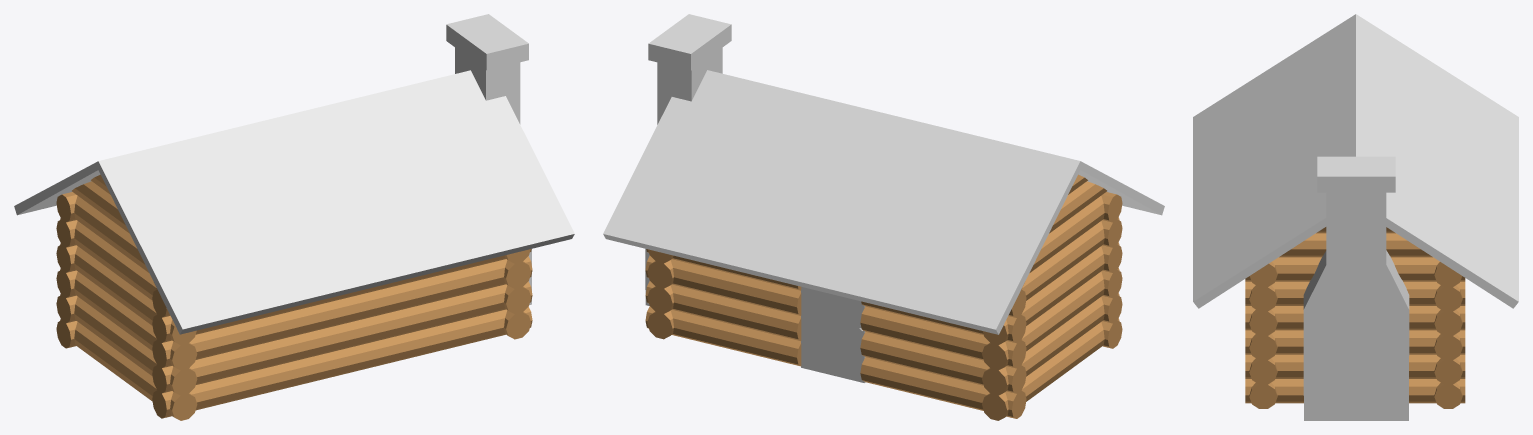
File: Cabin.fbx
3 views of the same model, side by side, from view 1: azimuth 30°, elevation 25°; view 2: azimuth 150°, elevation 25°; view 3: azimuth 270°, elevation 25° (orthographic). The views are drawn at different scales.
Parts seen in each view (by area): view 1: rOOF, WallTop.001, Walls, cHIMNEY, Walls.001, WallDoor; view 2: rOOF, WallDoor, Walls, cHIMNEY, Door.001, Walls.001, WallTop.001; view 3: rOOF, cHIMNEY, Walls, Walls.001, WallTop.001, WallDoor, WallTop.002, WallTop.
Part boxes in pixels (box(x1,y1,x2,y2)): rOOF: box(14, 70, 574, 334); WallTop.001: box(152, 249, 532, 418); Walls: box(60, 218, 531, 420); cHIMNEY: box(446, 14, 531, 304); Walls.001: box(72, 174, 148, 272); WallDoor: box(56, 244, 77, 348); rOOF: box(603, 70, 1164, 334); WallDoor: box(645, 249, 1026, 418); Walls: box(647, 217, 1119, 420); cHIMNEY: box(645, 14, 731, 305); Door.001: box(801, 287, 865, 382); Walls.001: box(1029, 174, 1106, 272); WallTop.001: box(1101, 219, 1122, 348); rOOF: box(1193, 14, 1518, 308); cHIMNEY: box(1303, 156, 1409, 420); Walls: box(1245, 281, 1465, 403); Walls.001: box(1245, 227, 1465, 281); WallTop.001: box(1249, 285, 1277, 408); WallDoor: box(1434, 310, 1462, 408); WallTop.002: box(1249, 262, 1462, 287); WallTop: box(1434, 285, 1462, 311).
Bounding box in the file's own units: 8.71 × 6.19 × 5.2.
